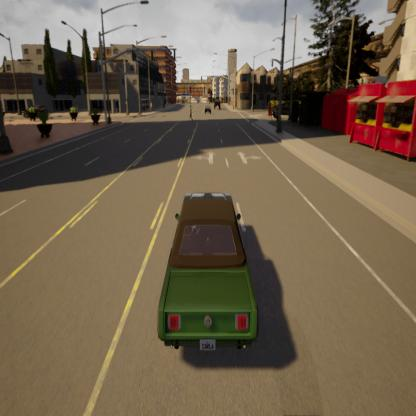Cars: (153, 157, 268, 370), (214, 91, 224, 120), (202, 98, 213, 119)
Pedestrian: (186, 98, 198, 132), (266, 102, 273, 127)
